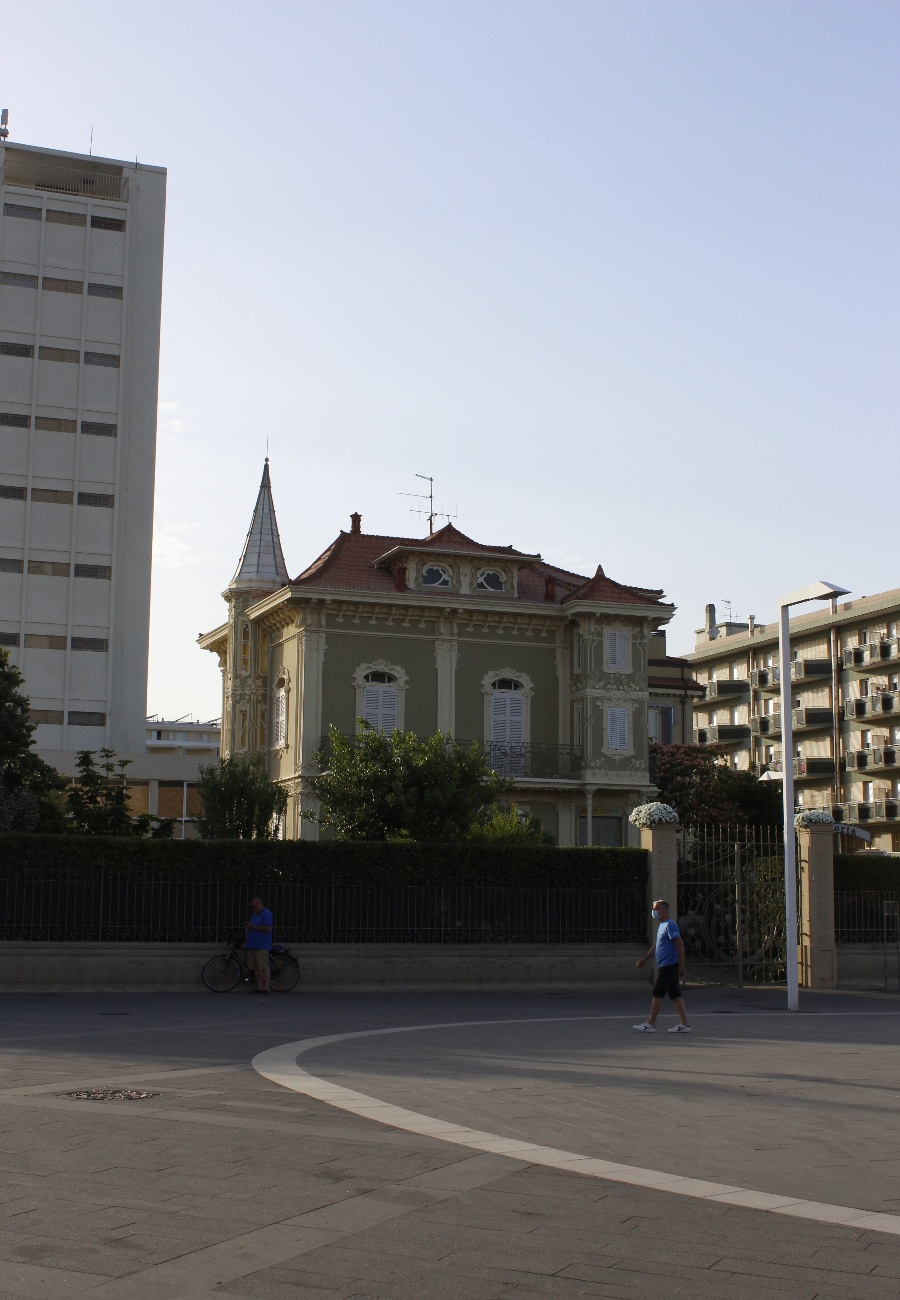Villino Ruggeri: (196, 464, 674, 896)
